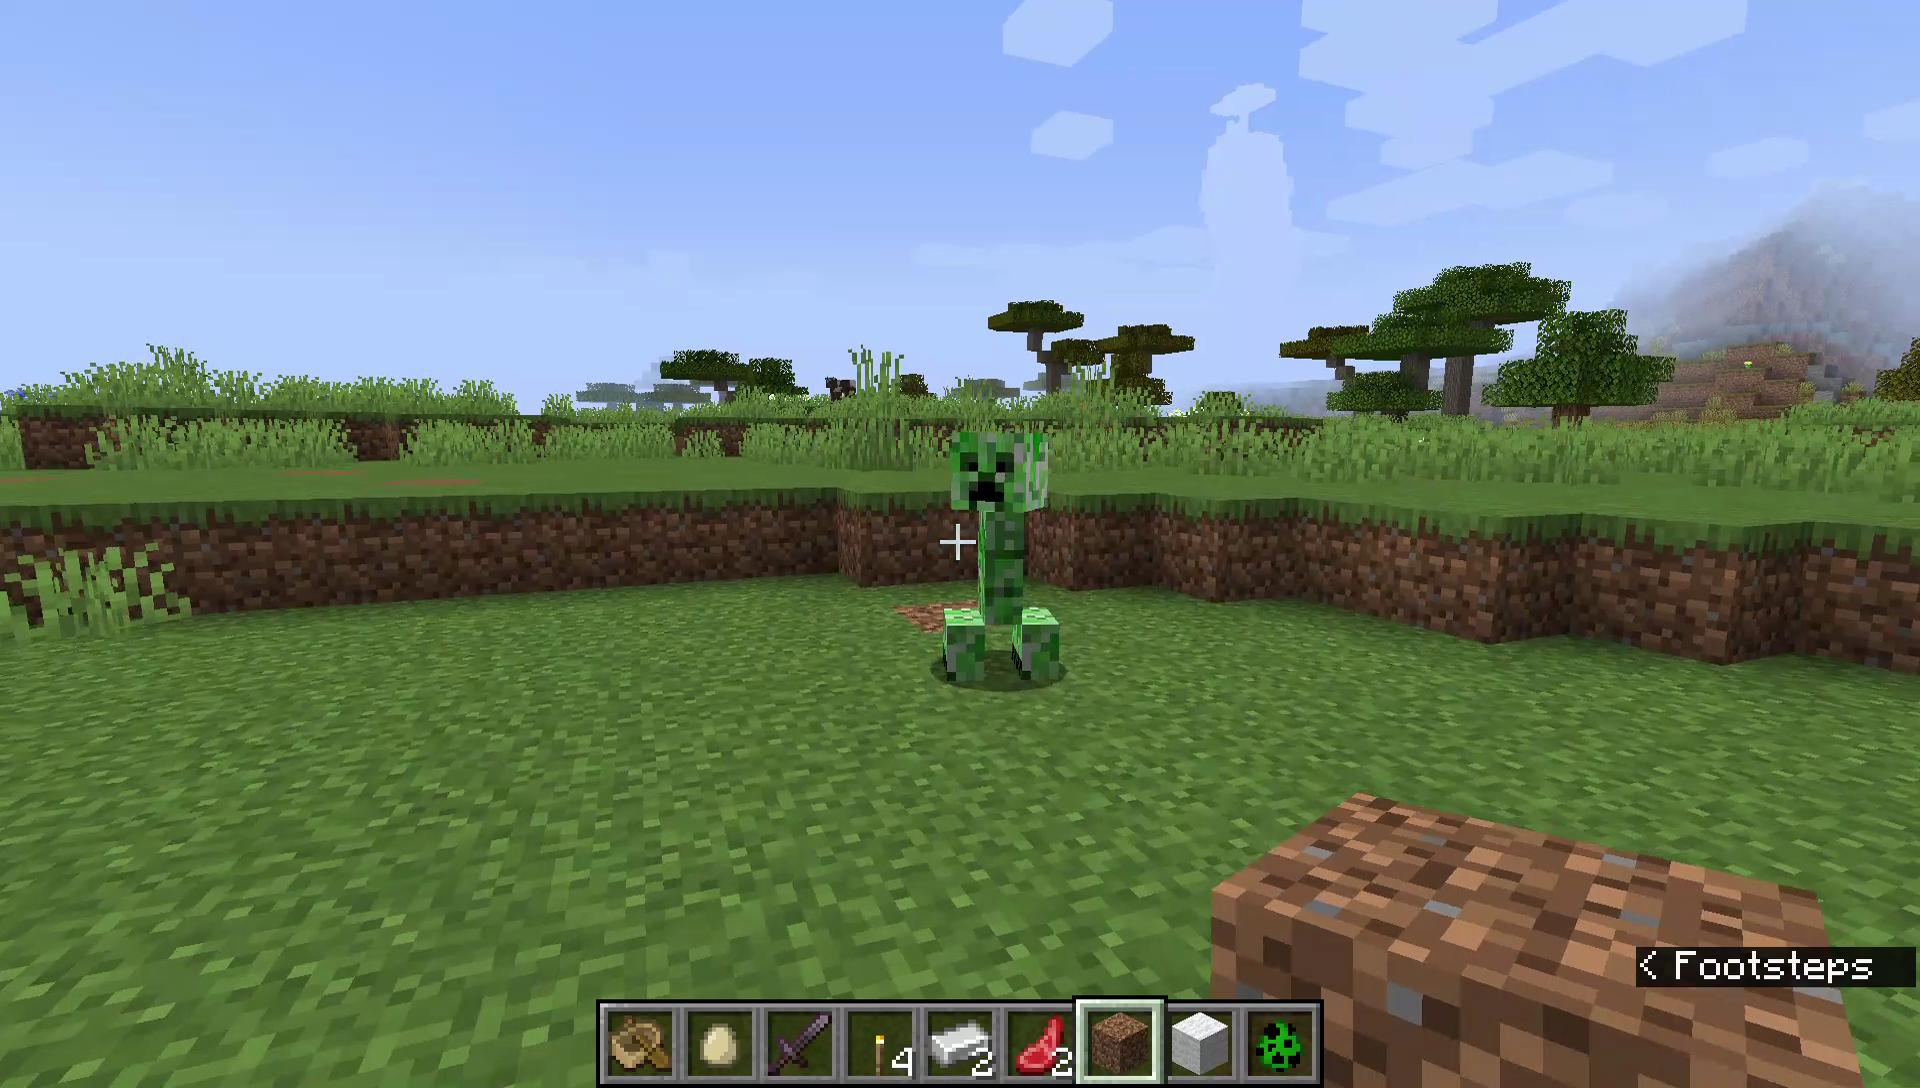cow: (824, 372, 860, 408)
creeper: (942, 422, 1067, 688)
